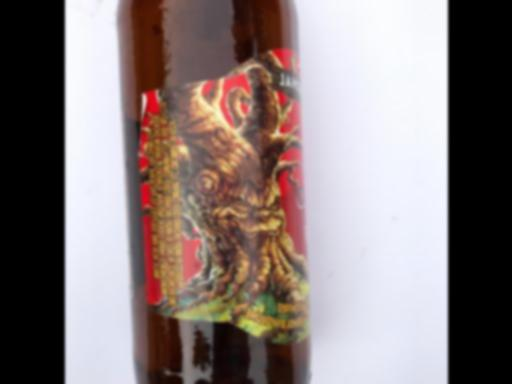alcohol: (114, 0, 310, 384)
glass: (114, 0, 310, 384)
sodocalcique: (114, 0, 310, 384)
